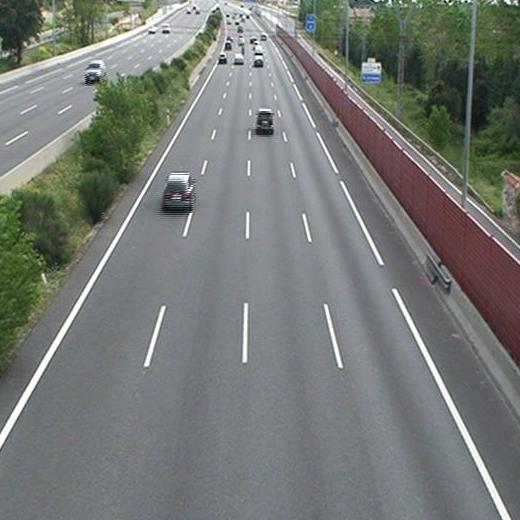car: (163, 174, 193, 208), (256, 111, 274, 130), (233, 53, 245, 63), (253, 56, 263, 66), (218, 53, 228, 63), (254, 45, 263, 55)
